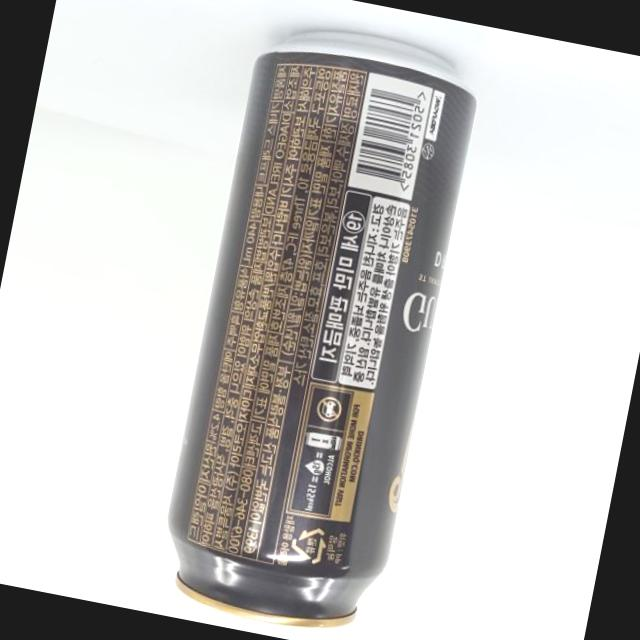can: (146, 8, 492, 640)
